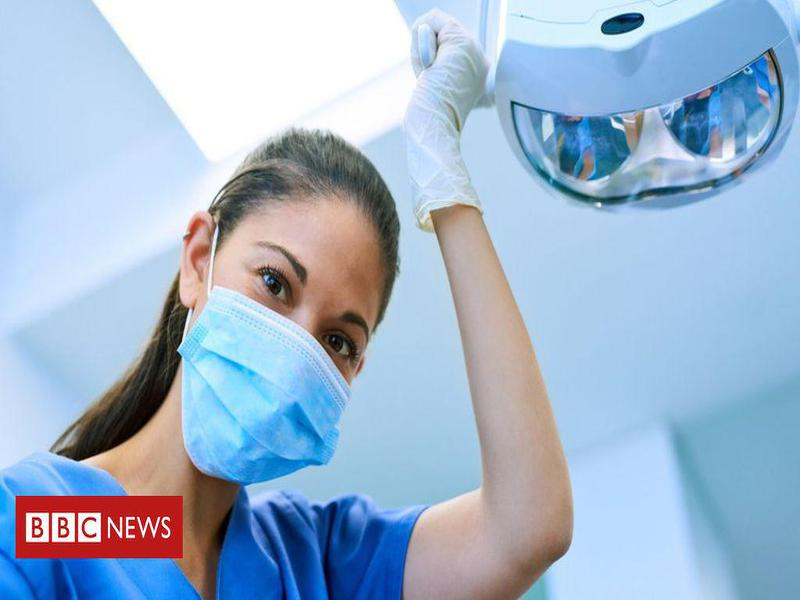with_mask: (176, 125, 403, 488)
